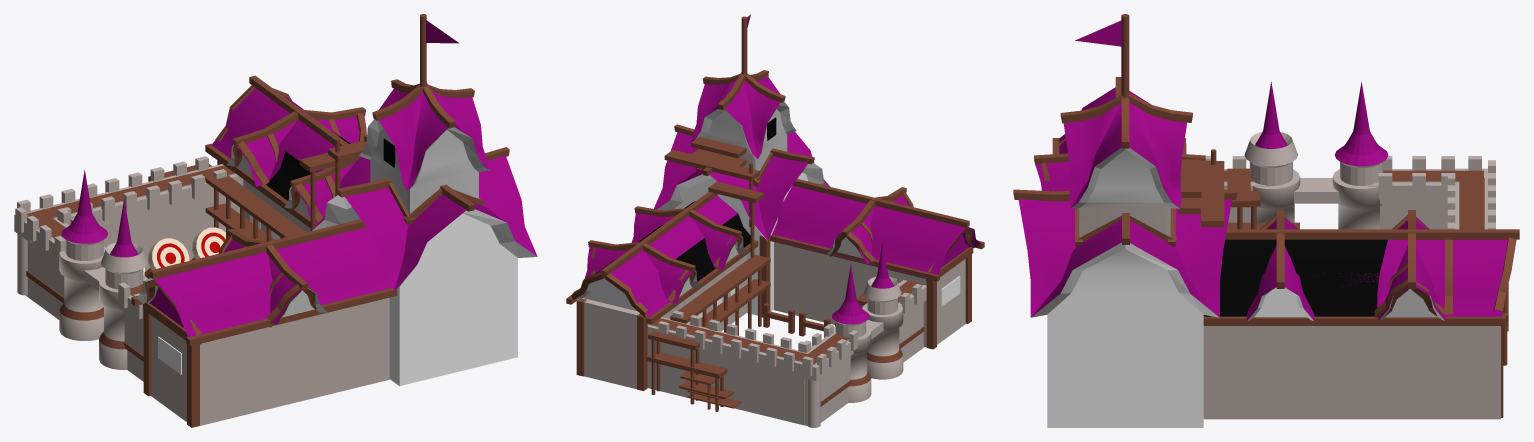
The model's file is ElfBarracks.fbx.
3 renders of one model, left to right at view 1: azimuth 30°, elevation 25°; view 2: azimuth 150°, elevation 25°; view 3: azimuth 270°, elevation 25°, orthographic. The views are drawn at different scales.
Parts seen in each view (by area): view 1: BarraxBuild, Barrax; view 2: Barrax, BarraxBuild; view 3: BarraxBuild, Barrax.
Boxes of the visible parts, x1,y1,x2,y2 form: BarraxBuild: (99,75,537,427); Barrax: (14,14,490,425); Barrax: (571,14,980,427); BarraxBuild: (566,124,984,412); BarraxBuild: (1013,77,1519,427); Barrax: (1034,14,1507,320).
Bounding box in the file's own units: 159 × 170 × 141.
